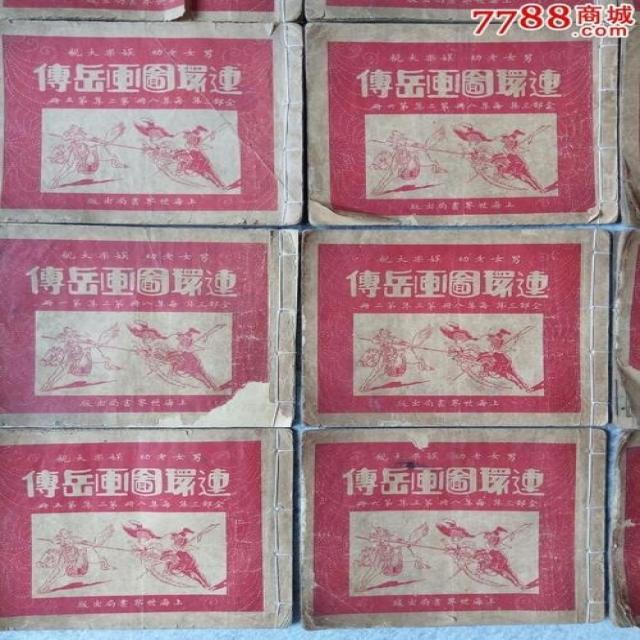box: (295, 222, 613, 427), (303, 22, 621, 226), (296, 426, 611, 630), (1, 20, 306, 224), (2, 219, 300, 427), (2, 21, 304, 225), (2, 425, 296, 630), (301, 1, 619, 23), (610, 224, 639, 427), (609, 426, 638, 627), (3, 1, 302, 20), (618, 23, 639, 225), (618, 1, 639, 23)
